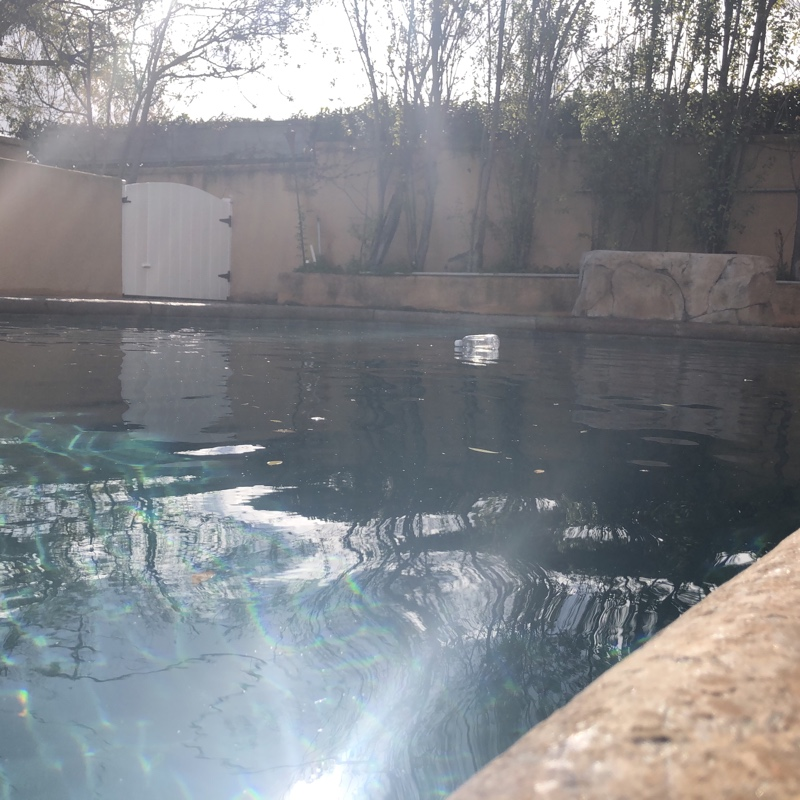Plastic Bottle: (455, 330, 500, 350)
